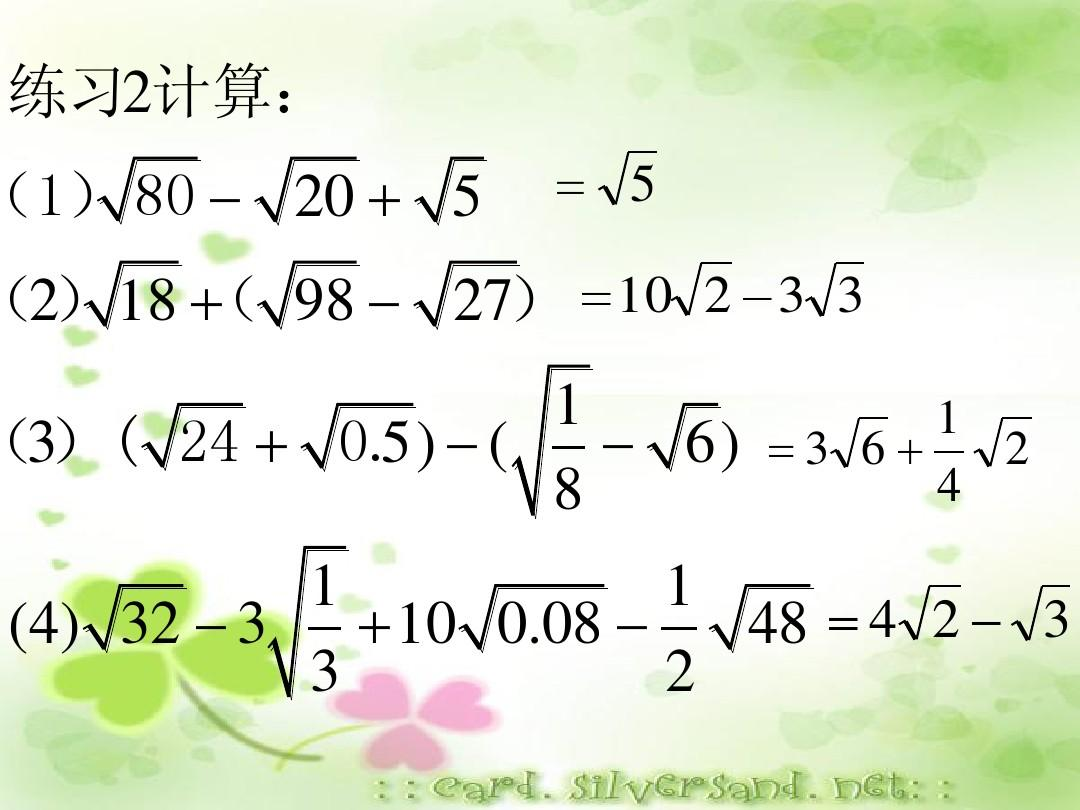division: (659, 621, 699, 636), (553, 438, 589, 454), (307, 623, 341, 635), (934, 447, 966, 459)
sqrt: (515, 352, 601, 517), (270, 541, 355, 702), (462, 576, 612, 652), (259, 142, 375, 228), (710, 572, 823, 658), (301, 396, 420, 473), (138, 399, 248, 480), (260, 247, 358, 333), (80, 579, 186, 656), (101, 146, 196, 228), (421, 257, 524, 330), (96, 246, 182, 332), (418, 136, 490, 232), (670, 239, 741, 324), (1005, 569, 1075, 647), (648, 400, 719, 471), (806, 257, 875, 322), (830, 407, 895, 473), (596, 146, 657, 207), (914, 575, 965, 645), (980, 403, 1029, 467)
